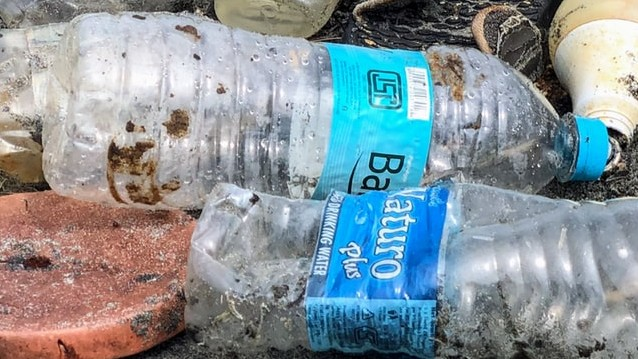garbage: (53, 11, 638, 354)
